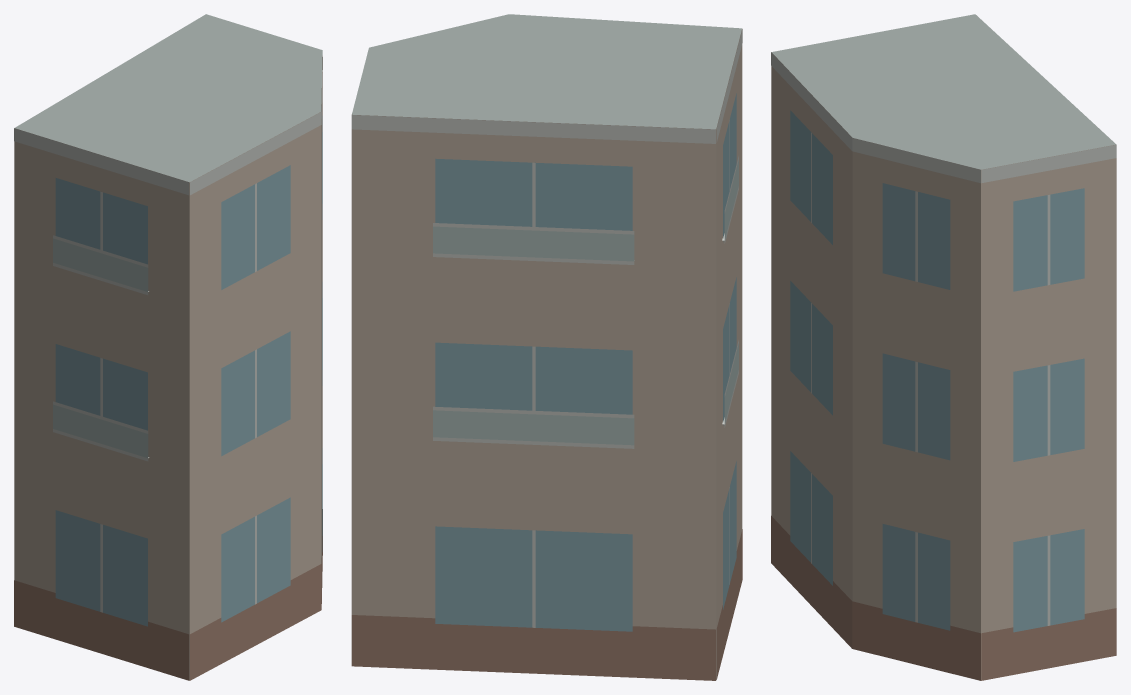
File: survey-upis-32456906.glb
3 renders of one model, left to right at view 1: azimuth 30°, elevation 25°; view 2: azimuth 150°, elevation 25°; view 3: azimuth 270°, elevation 25°, orthographic. The views are drawn at different scales.
Parts seen in each view (by area): view 1: survey-upis-32456906.tmp; view 2: survey-upis-32456906.tmp; view 3: survey-upis-32456906.tmp.
Part boxes in pixels (bbox=[...]): survey-upis-32456906.tmp: bbox=[14, 14, 322, 680]; survey-upis-32456906.tmp: bbox=[351, 14, 742, 680]; survey-upis-32456906.tmp: bbox=[771, 14, 1116, 680].
Size of the model in its own units: 5.99 by 9.15 by 5.61.
